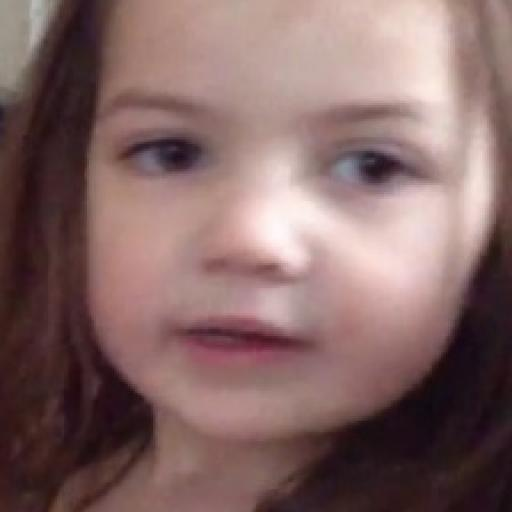Autism: (45, 0, 512, 494)
